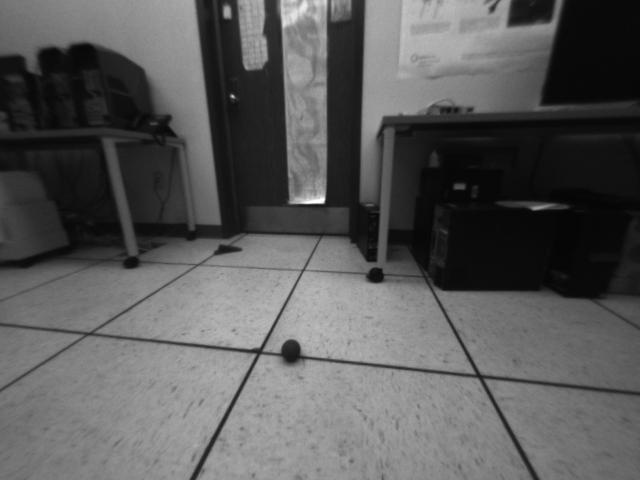dogtoy: (272, 332, 310, 370)
